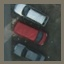car: (11, 20, 48, 46), (12, 4, 49, 26), (11, 42, 45, 61)
